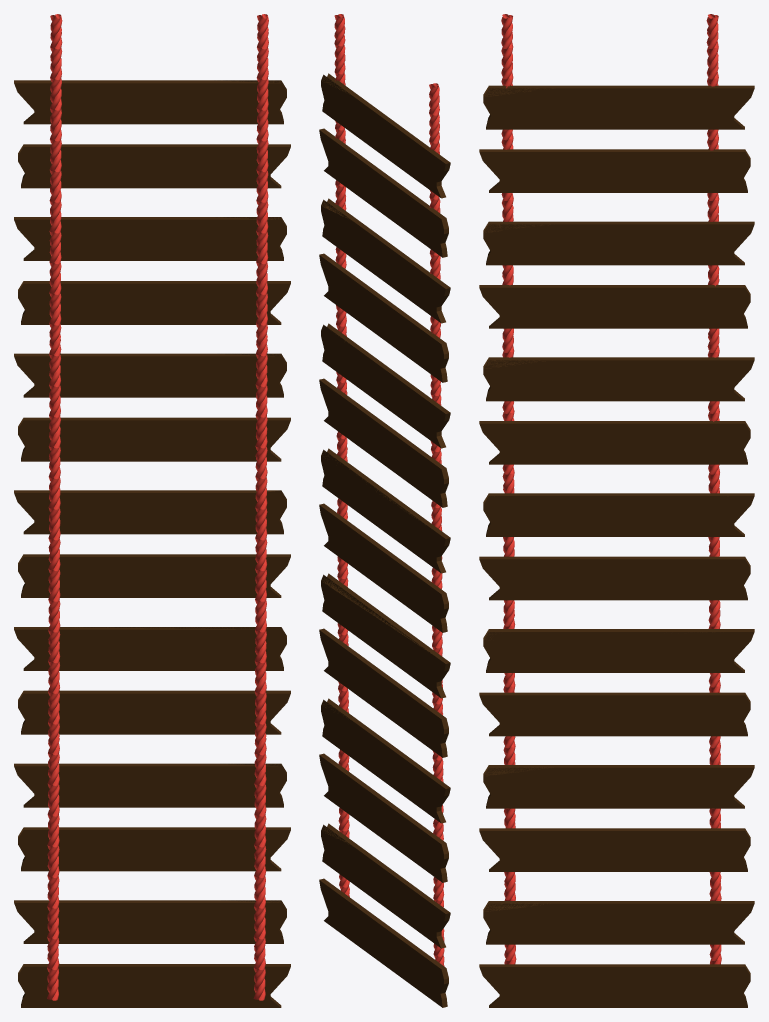
The model's file is ladder.fbx.
The picture shows the model from 3 angles, left to right: view 1: azimuth 90°, elevation 25°; view 2: azimuth 210°, elevation 25°; view 3: azimuth 270°, elevation 25°; orthographic projection. The views are drawn at different scales.
Parts seen in each view (by area): view 1: Rope.003; view 2: Rope.003; view 3: Rope.003.
Part boxes in pixels (x1,y1,x2,y2): Rope.003: [14, 14, 290, 1007]; Rope.003: [319, 14, 450, 1007]; Rope.003: [479, 14, 754, 1007].
Size of the model in its own units: 22.15 by 1204 by 304.
Materials: 2 (1 with a texture image).
